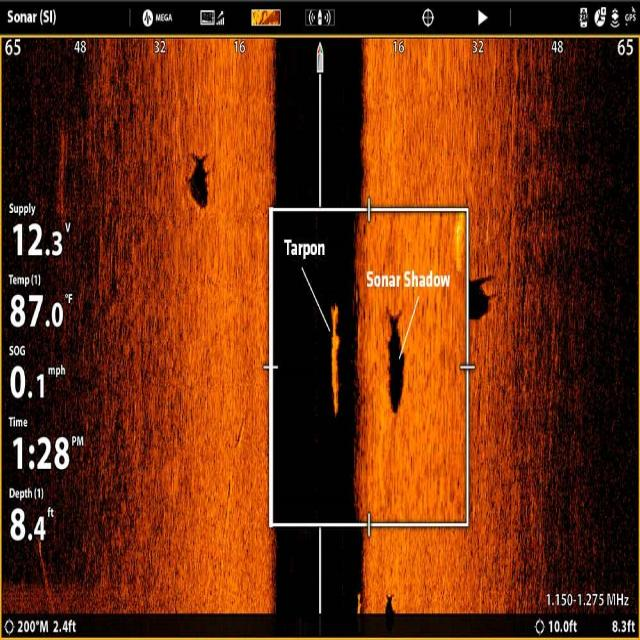fish: (328, 299, 342, 418)
